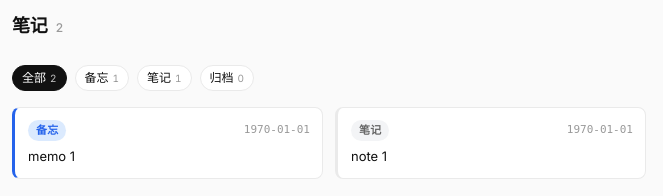
Test: NotesSection › filters by subtype chip click
Click the button "笔记 1".
click(164, 78)  # box [137,65,192,91]
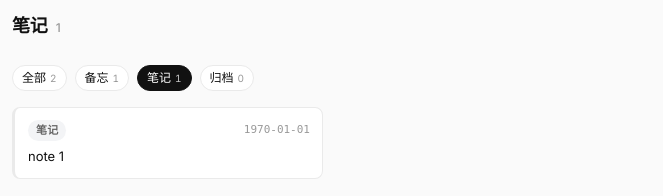
Check: the text "note 1" is shown, box [28,148,64,164]
Check: the button "memo 1" is gone
